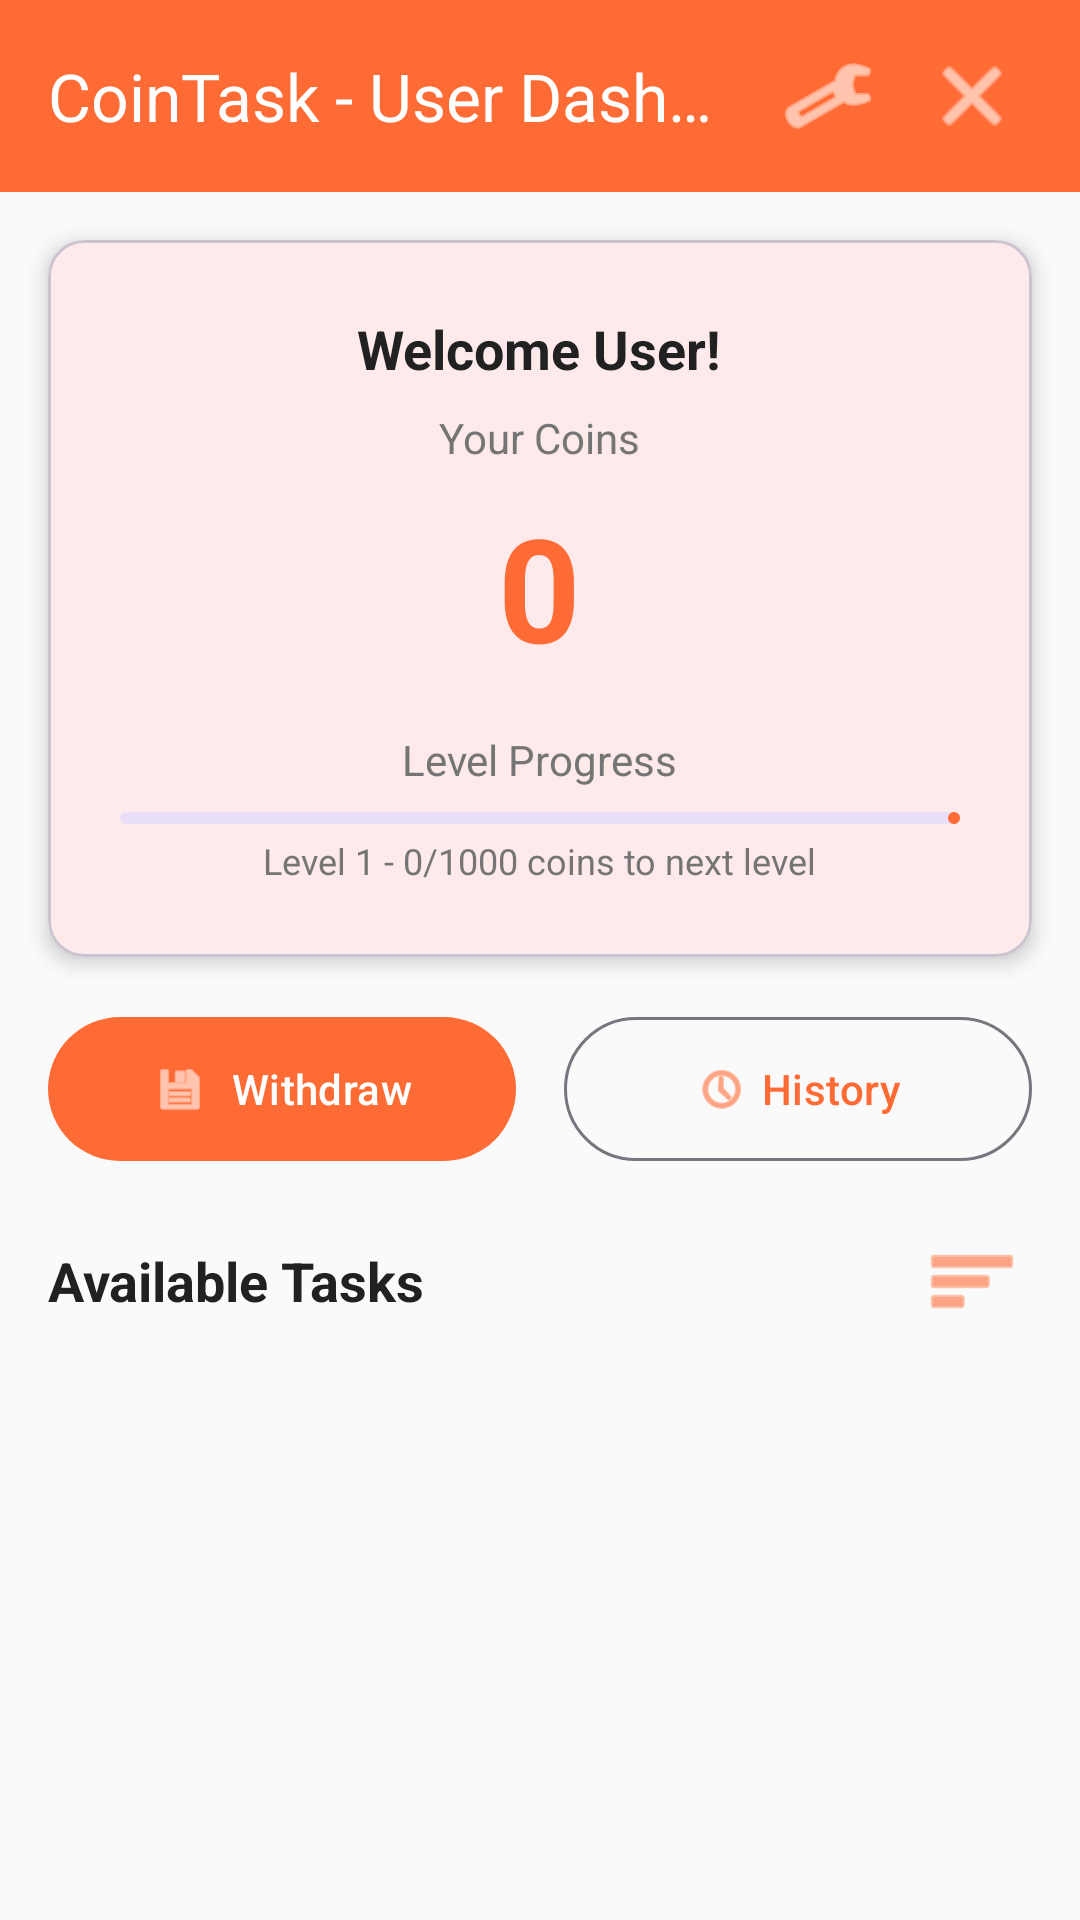

Point at icon controls on the screen. Image size 1080 x 1920, points as [x,y].
Filter tasks: [972,1281]
Settings: [828,96]
